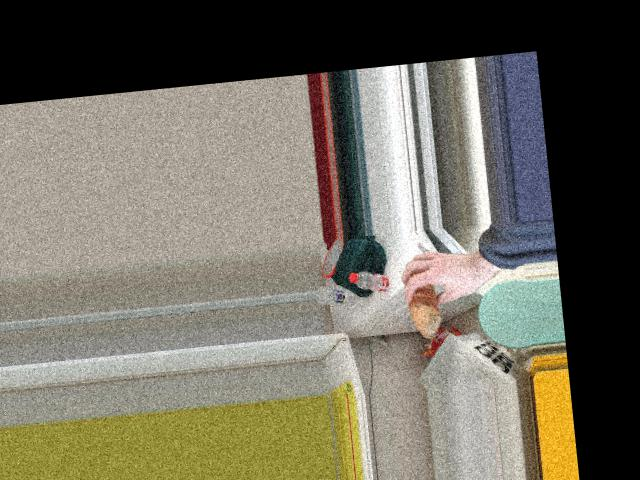sweet_potato: (408, 273, 447, 323)
